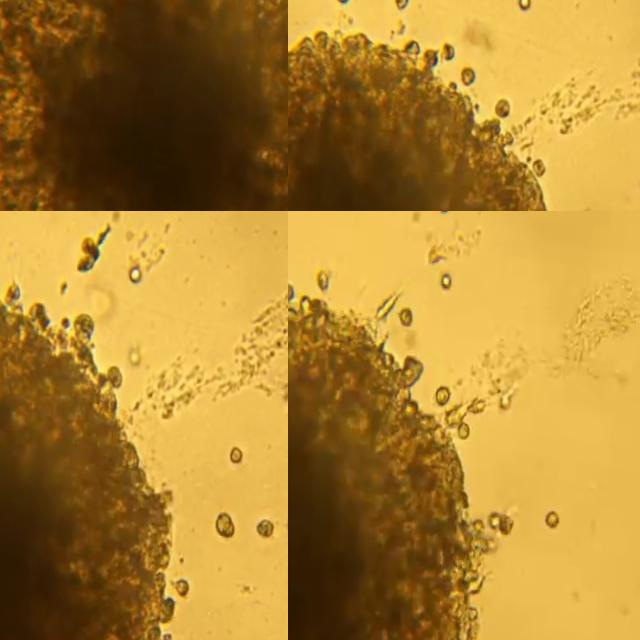cell: (74, 229, 99, 266), (372, 287, 398, 313), (215, 502, 237, 528), (442, 395, 463, 418), (424, 237, 445, 257), (433, 375, 451, 398), (255, 508, 275, 528), (466, 387, 485, 408), (459, 58, 476, 80), (498, 506, 516, 526), (485, 501, 503, 521), (174, 568, 192, 586), (126, 339, 141, 360), (439, 37, 455, 55), (398, 303, 414, 321), (126, 258, 142, 275), (492, 93, 509, 108), (531, 151, 546, 168), (543, 502, 560, 517), (437, 263, 449, 283), (458, 413, 470, 432), (95, 220, 108, 236), (316, 265, 327, 283), (229, 439, 241, 452)
tumor_mass: (288, 289, 497, 640), (0, 279, 176, 640), (0, 0, 288, 211), (288, 28, 547, 211)
